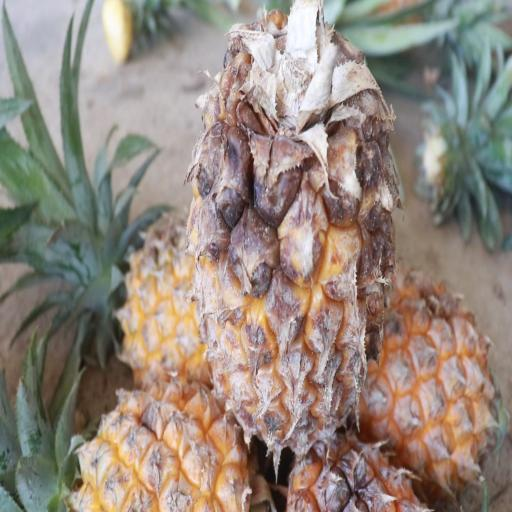Pineapple - v8 v1: (190, 8, 404, 448), (358, 266, 508, 512), (88, 192, 264, 378), (57, 364, 273, 512)
